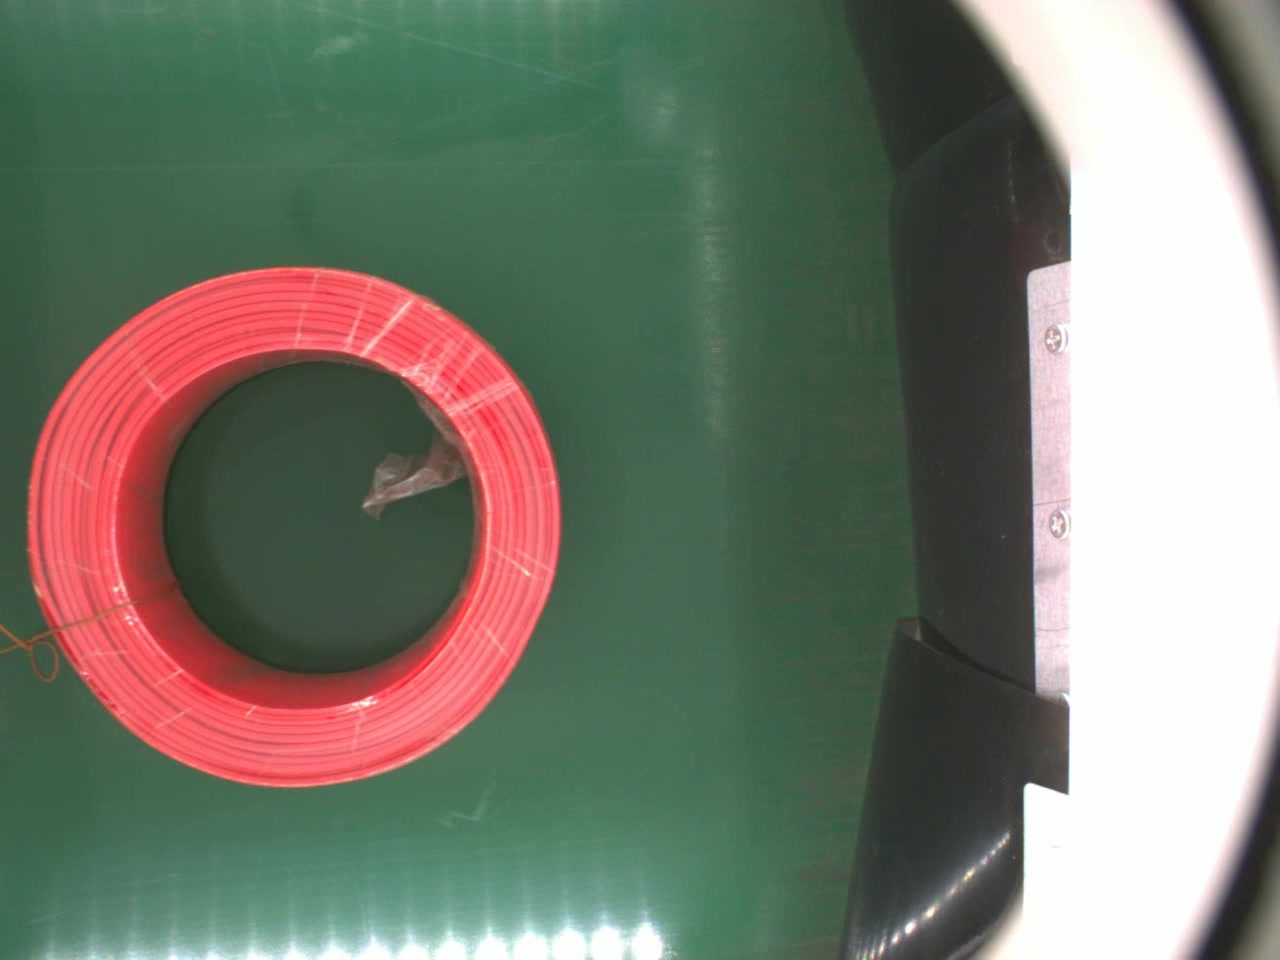red: (17, 262, 560, 790)
